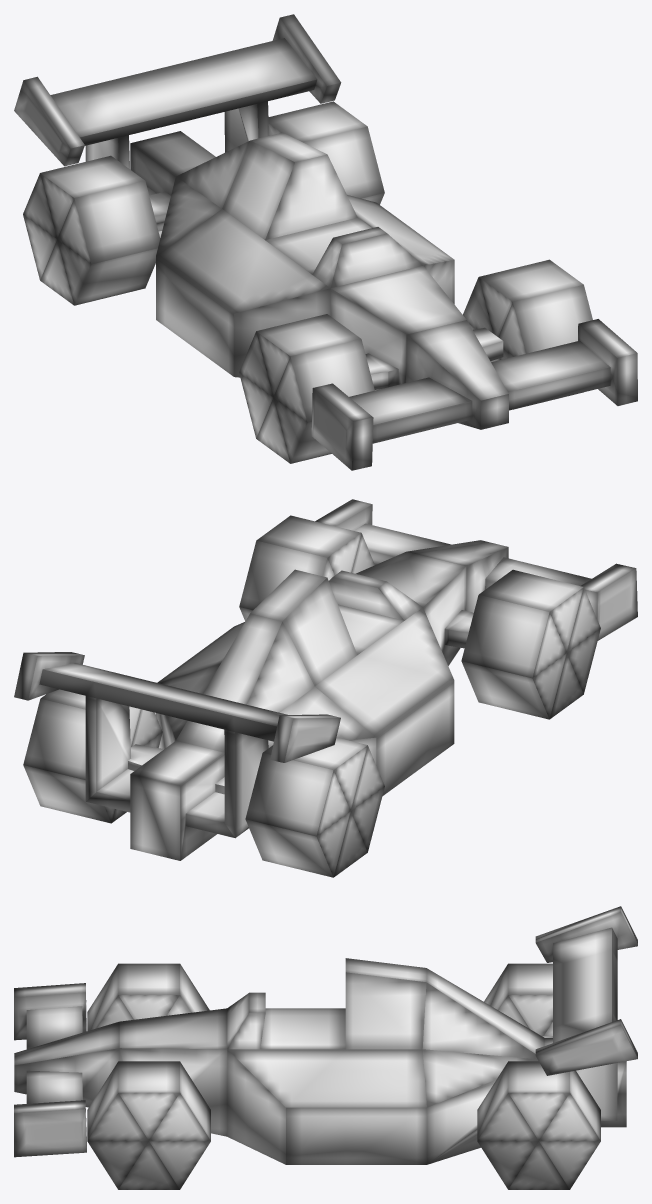
The model's file is Formula-01.fbx.
The picture shows the model from 3 angles, top to bottom: view 1: azimuth 30°, elevation 25°; view 2: azimuth 150°, elevation 25°; view 3: azimuth 270°, elevation 25°; orthographic projection. The views are drawn at different scales.
Visible parts, largest first — view 1: Formula-01, Formula-01-Wheel-BR, Formula-01-Wheel-FR, Formula-01-Wheel-FL, Formula-01-Wheel-BL; view 2: Formula-01, Formula-01-Wheel-FR, Formula-01-Wheel-BR, Formula-01-Wheel-BL, Formula-01-Wheel-FL; view 3: Formula-01, Formula-01-Wheel-FL, Formula-01-Wheel-BL, Formula-01-Wheel-FR, Formula-01-Wheel-BR.
Boxes of the visible parts, bbox=[...] form: Formula-01: bbox=[14, 14, 637, 470]; Formula-01-Wheel-BR: bbox=[23, 155, 160, 305]; Formula-01-Wheel-FR: bbox=[239, 314, 374, 463]; Formula-01-Wheel-FL: bbox=[463, 259, 592, 409]; Formula-01-Wheel-BL: bbox=[268, 101, 384, 204]; Formula-01: bbox=[14, 499, 637, 860]; Formula-01-Wheel-FR: bbox=[461, 569, 600, 719]; Formula-01-Wheel-BR: bbox=[245, 737, 384, 877]; Formula-01-Wheel-BL: bbox=[23, 689, 162, 823]; Formula-01-Wheel-FL: bbox=[239, 515, 374, 621]; Formula-01: bbox=[14, 906, 637, 1164]; Formula-01-Wheel-FL: bbox=[87, 1061, 210, 1189]; Formula-01-Wheel-BL: bbox=[477, 1061, 600, 1189]; Formula-01-Wheel-FR: bbox=[87, 963, 209, 1030]; Formula-01-Wheel-BR: bbox=[484, 963, 552, 1036].
Size of the model in its own units: 0.4886 by 0.2825 by 0.9975.
